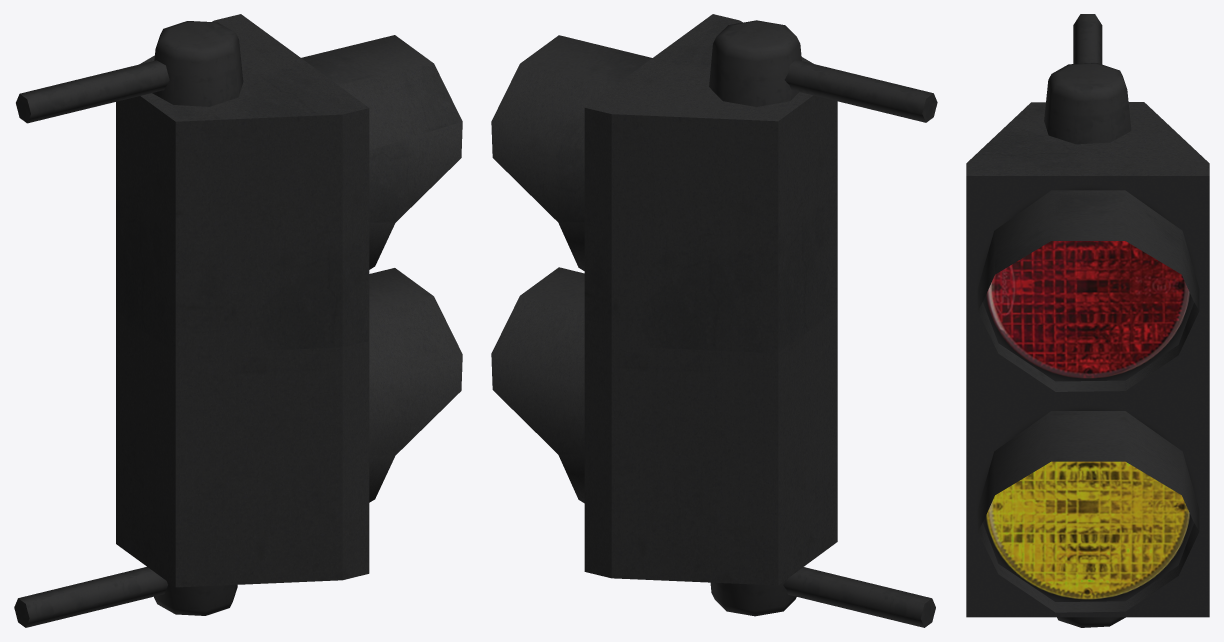
File: Light_set_2.FBX
3 views of the same model, side by side, from view 1: azimuth 30°, elevation 25°; view 2: azimuth 150°, elevation 25°; view 3: azimuth 270°, elevation 25° (orthographic). The views are drawn at different scales.
Parts seen in each view (by area): view 1: Light_set_2; view 2: Light_set_2; view 3: Light_set_2.
Part boxes in pixels (x1,y1,x2,y2): Light_set_2: [14, 14, 462, 627]; Light_set_2: [491, 14, 937, 627]; Light_set_2: [966, 14, 1209, 627].
Size of the model in its own units: 0.4409 by 0.6116 by 0.2507.
